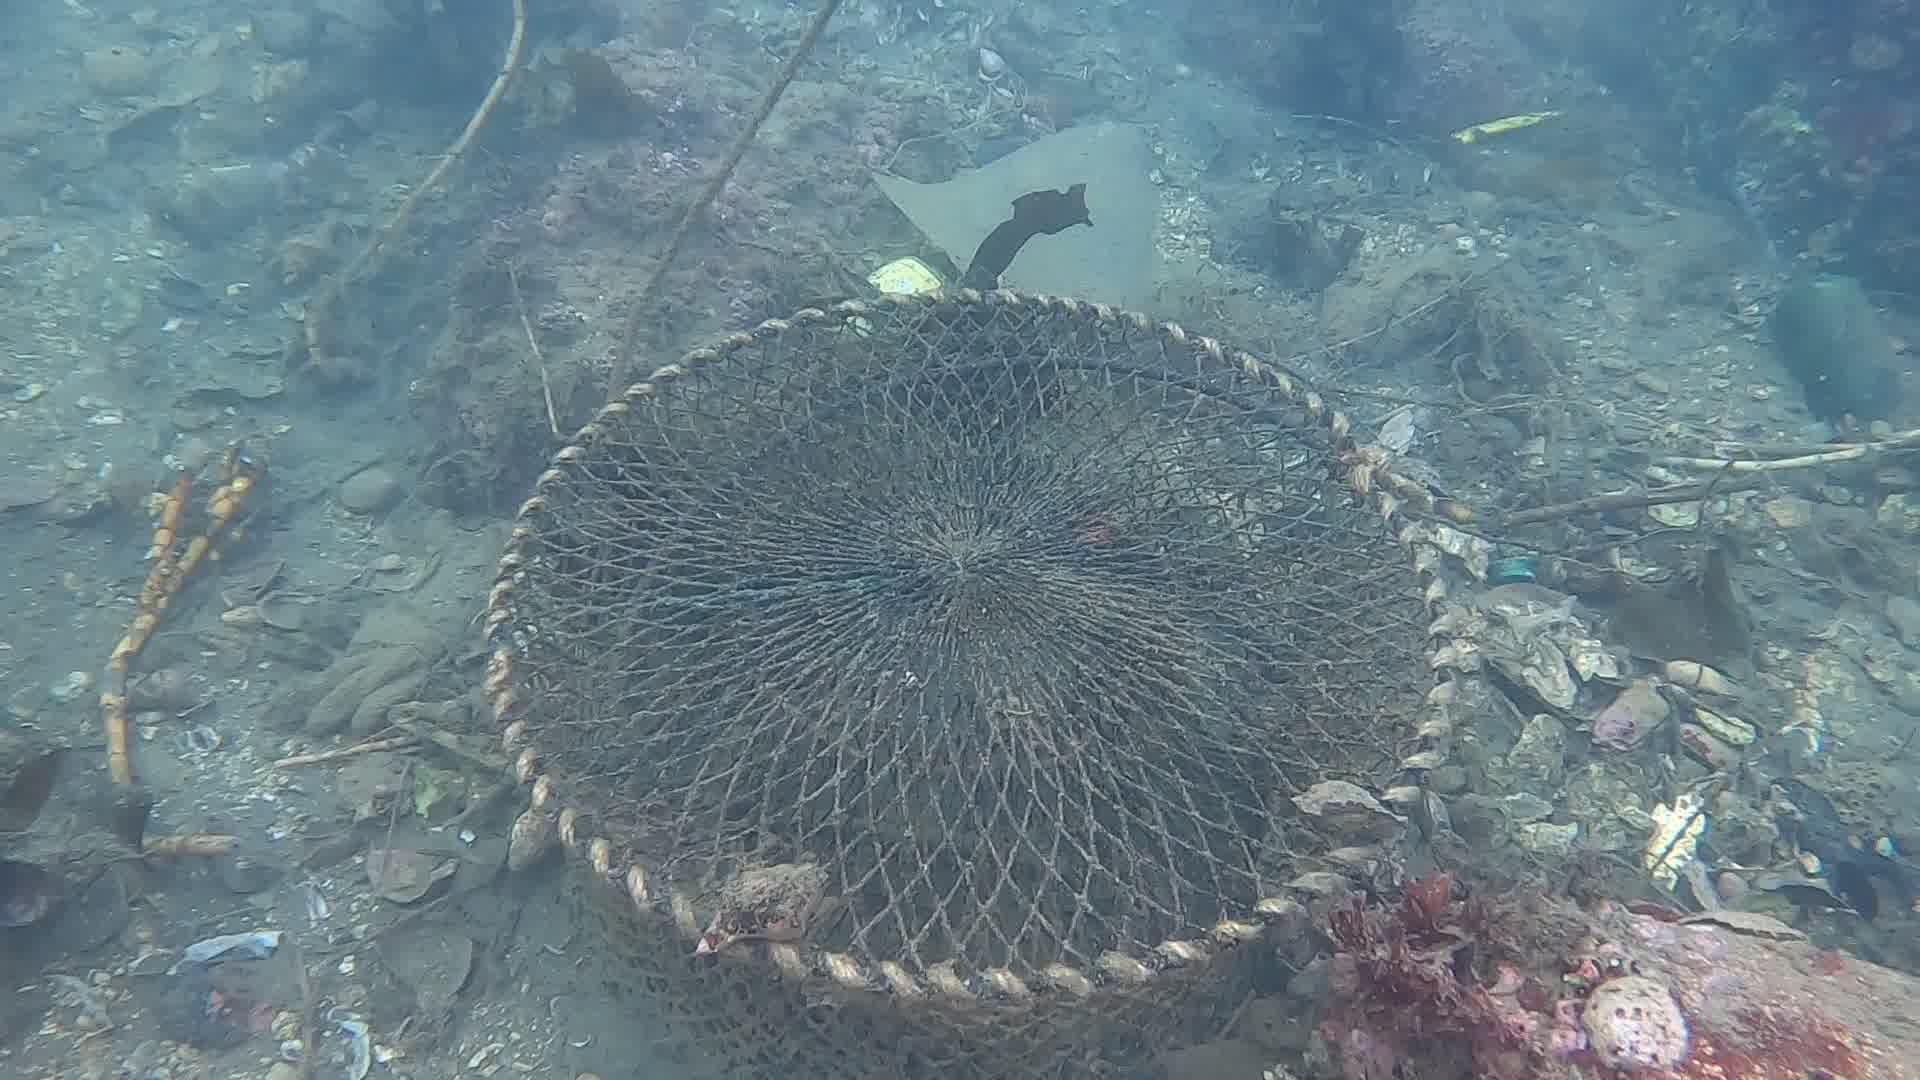circular fish trap: (481, 287, 1462, 1080)
